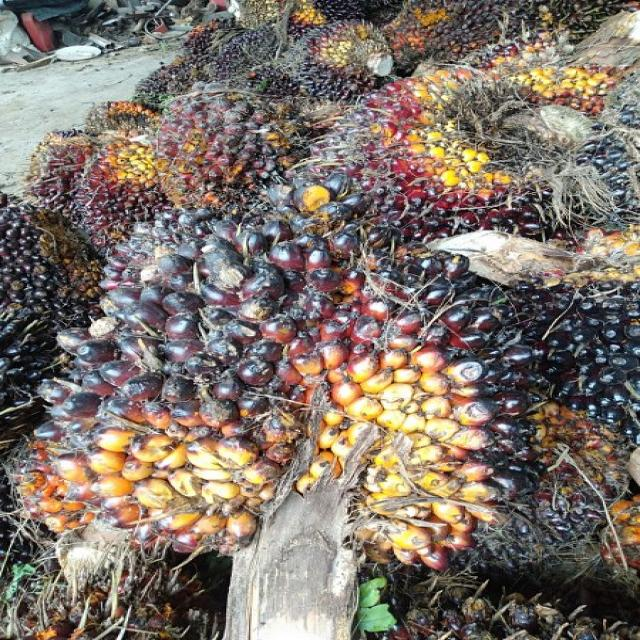fraksi 00: (22, 212, 520, 565), (274, 13, 398, 106)
fraksi 1: (149, 94, 270, 195)
